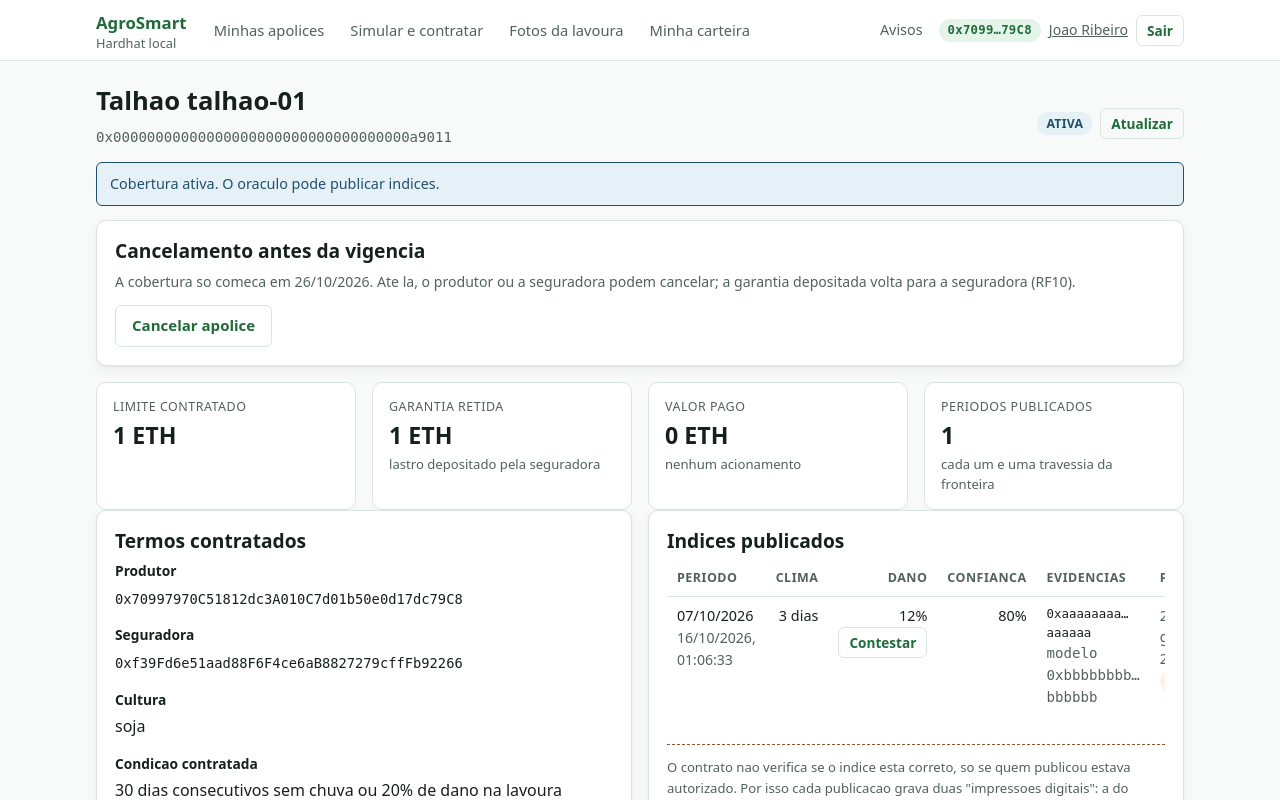
Test: detalhe da apolice › antes da vigencia, o produtor titular cancela pela carteira (RF10)
Click the button "Cancelar apolice".
click(194, 326)  # box [115,305,272,347]
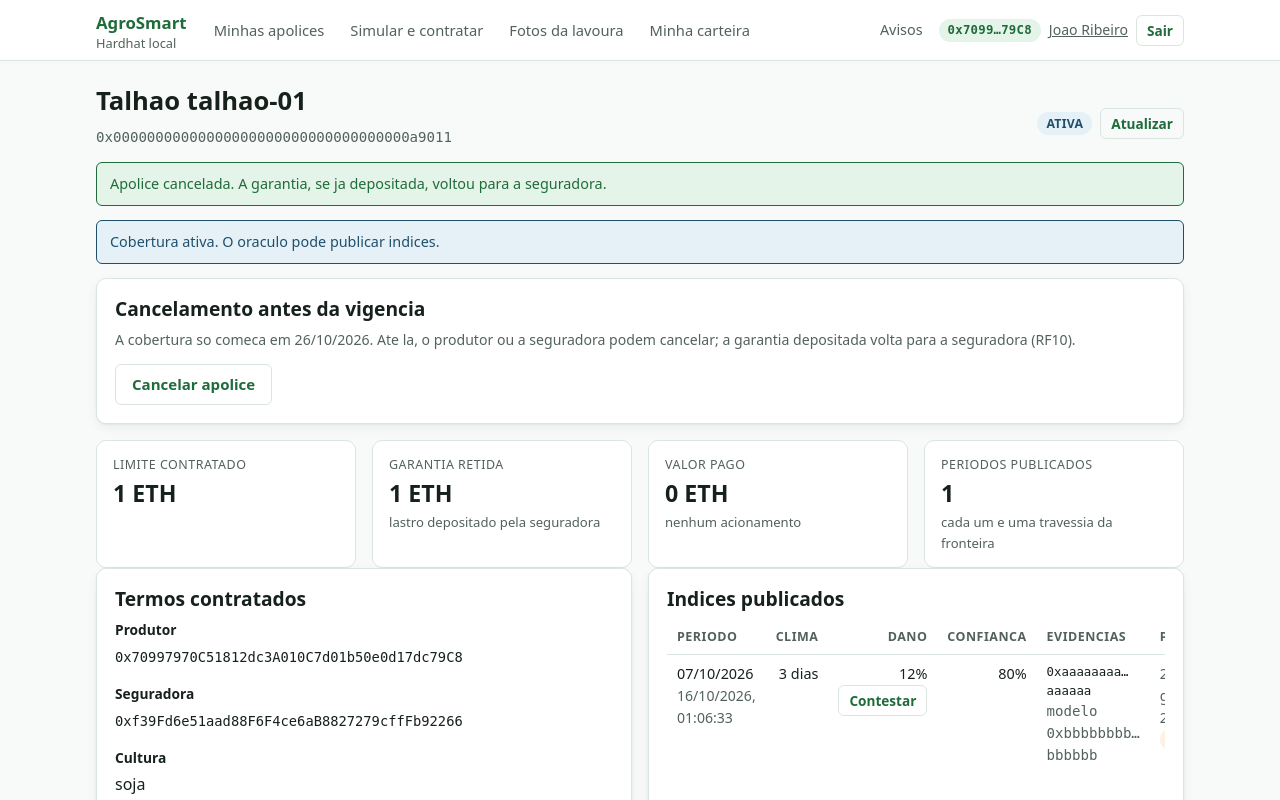
Now the text "Apolice cancelada. A garantia, se ja depositada, voltou para a seguradora." is shown, box [96,162,1184,206]
